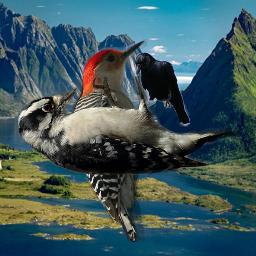Crow: (134, 52, 190, 127)
Woodpecker: (18, 76, 241, 175), (69, 39, 160, 242)
